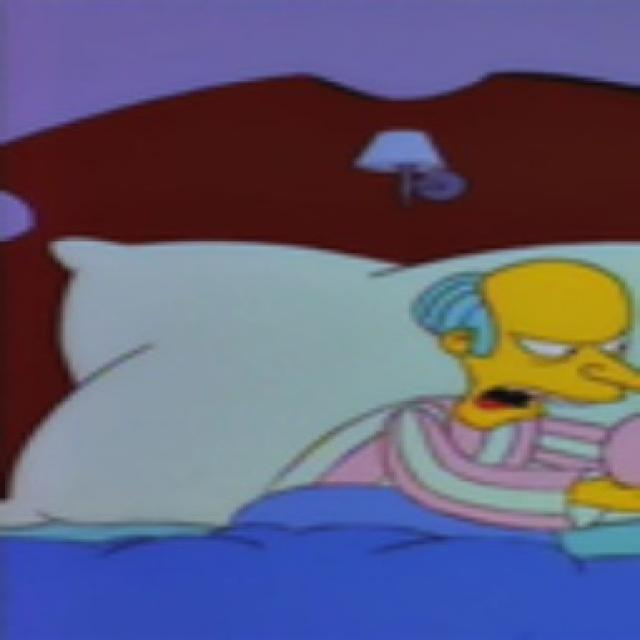Charles Montgomery Burns: (409, 259, 640, 430)
